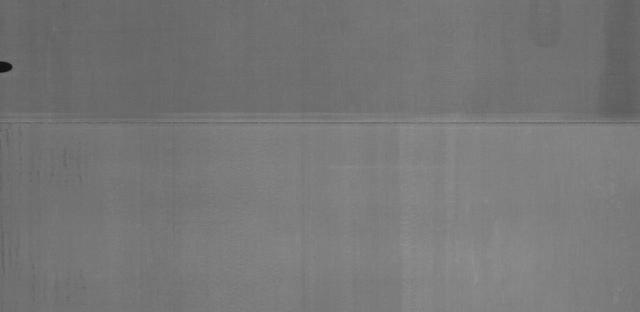punching_hole: (0, 58, 16, 77)
welding_line: (0, 104, 638, 132)
